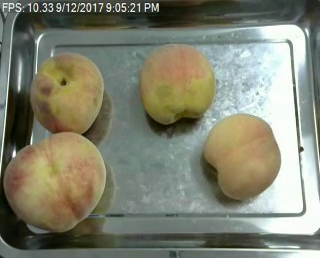Peach: (3, 132, 107, 234), (203, 112, 281, 199), (139, 42, 216, 124), (30, 52, 106, 135)
